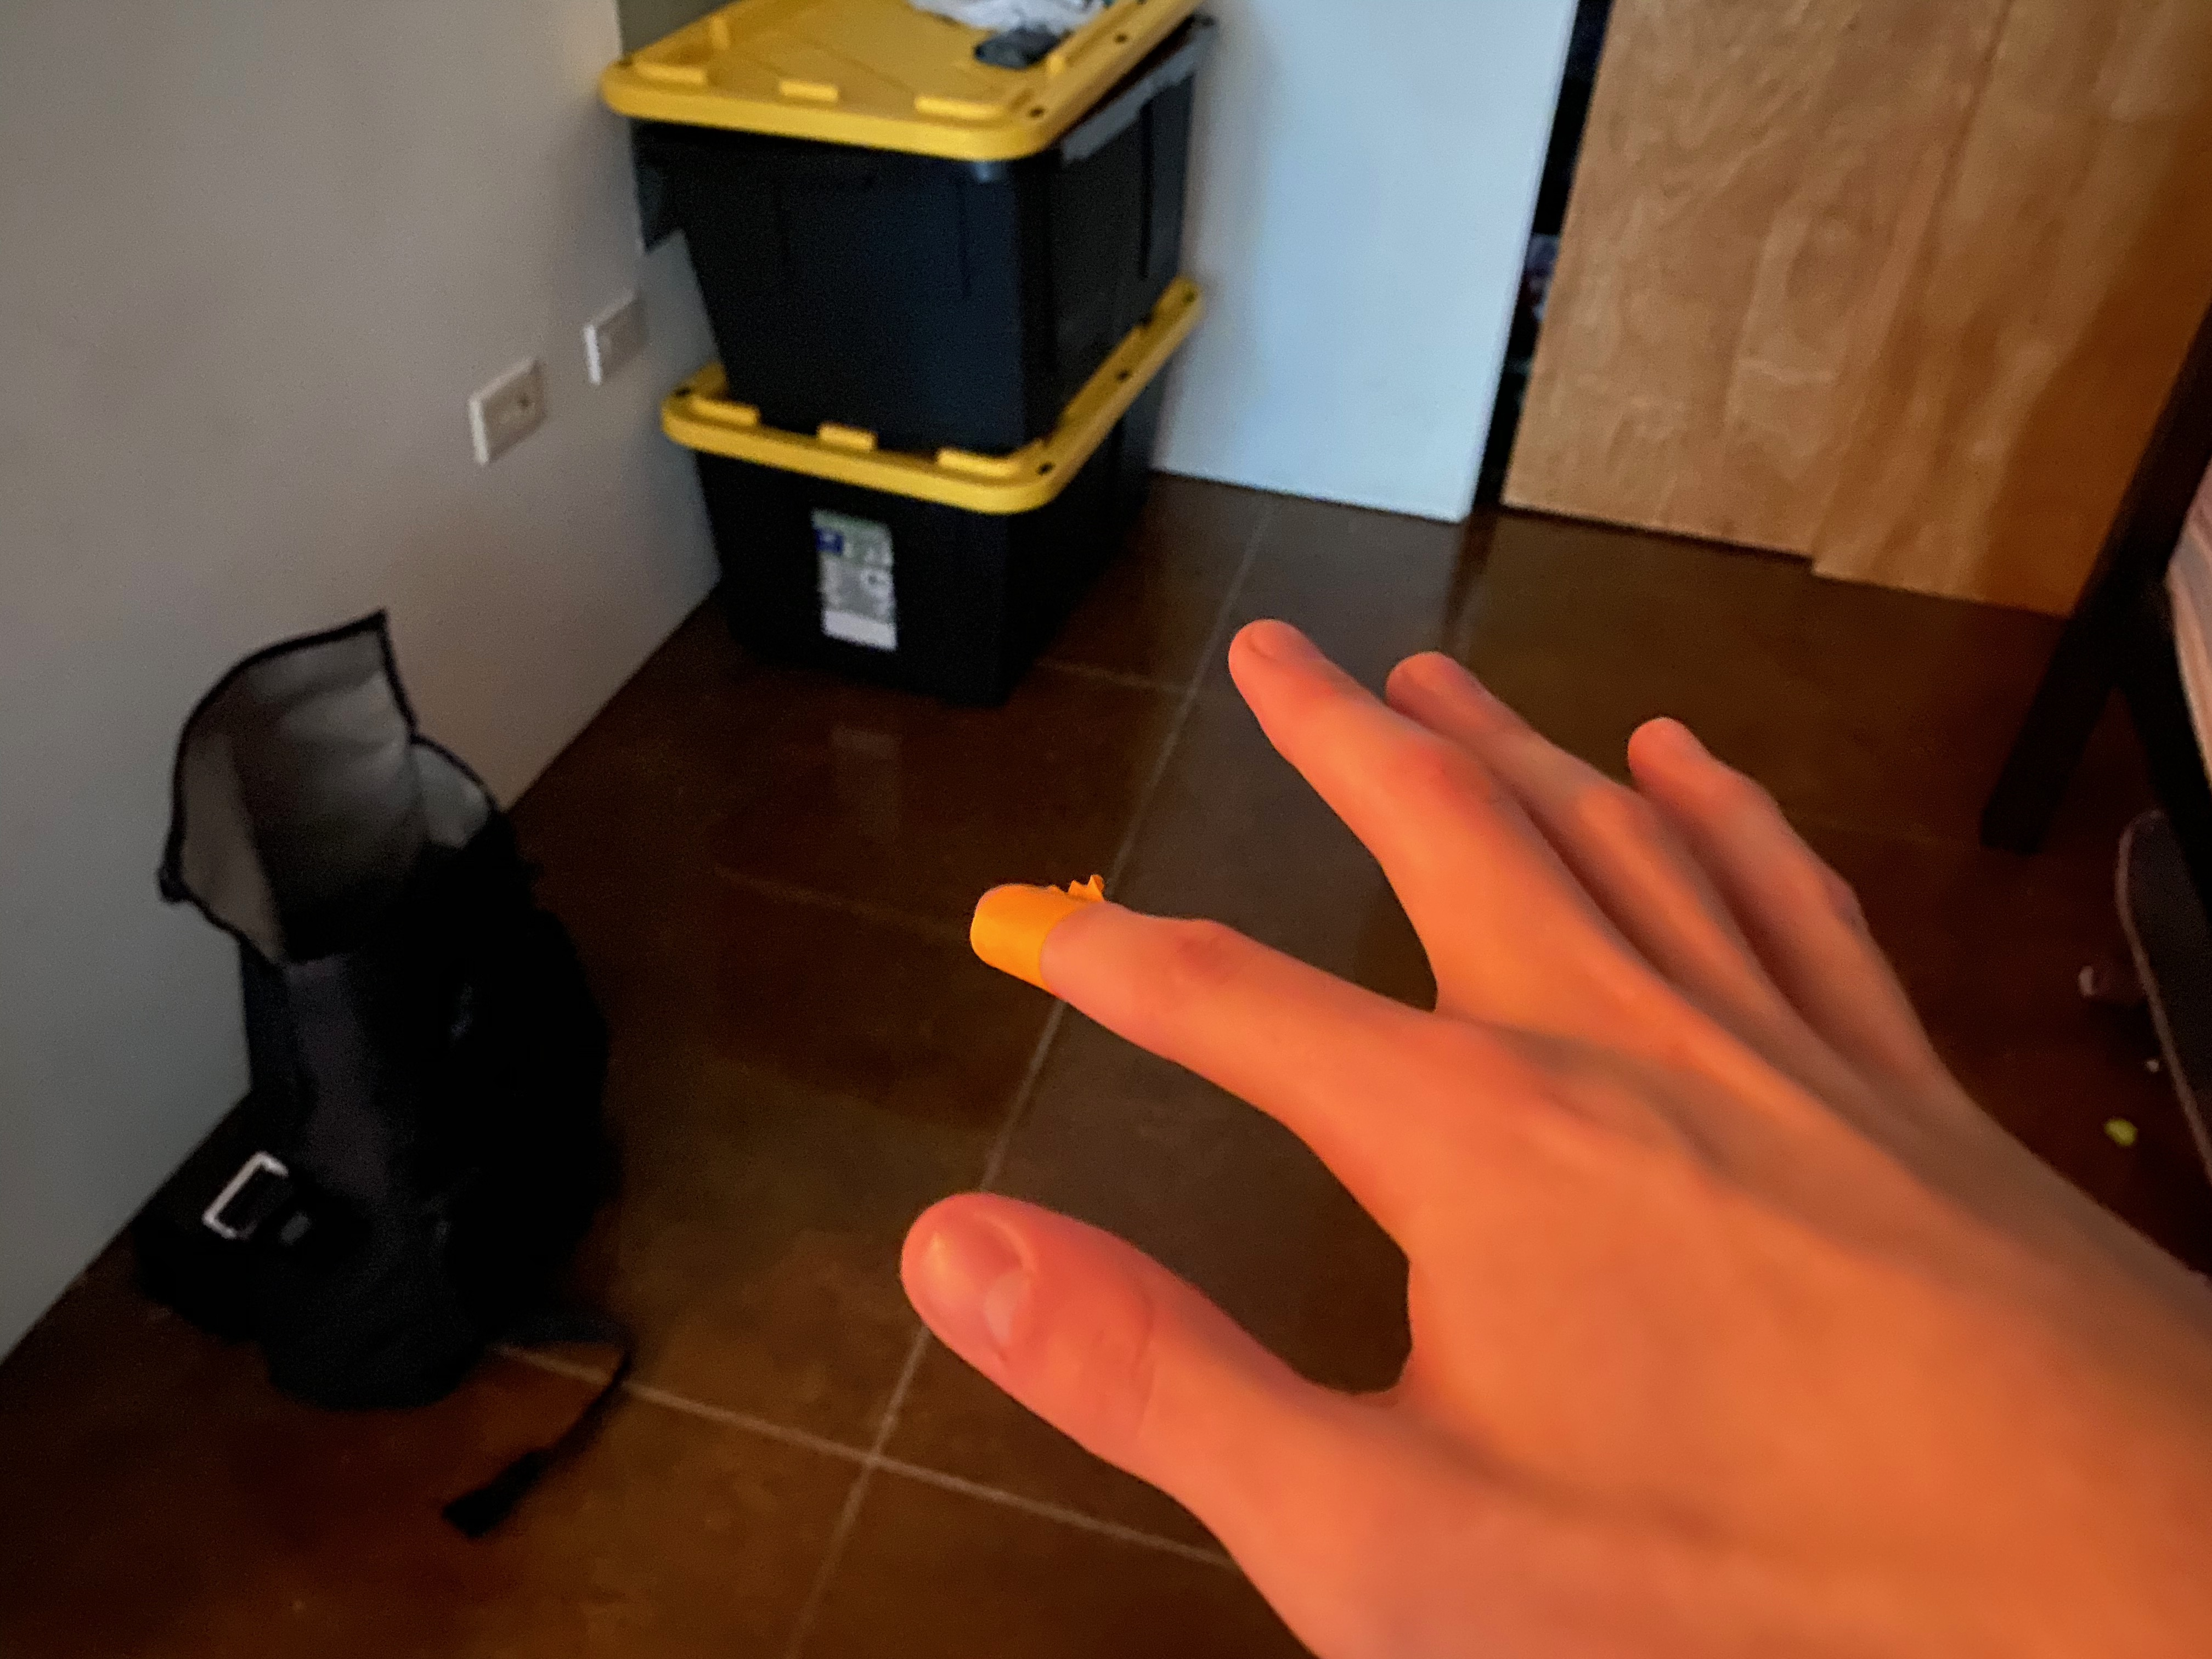fingertip: (960, 863, 1165, 1056)
